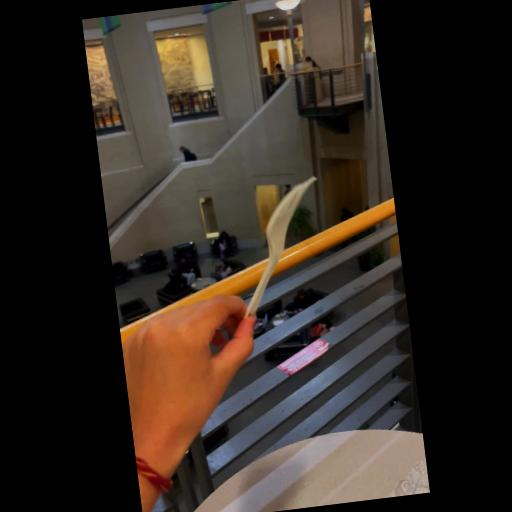utensil: (224, 174, 336, 328)
